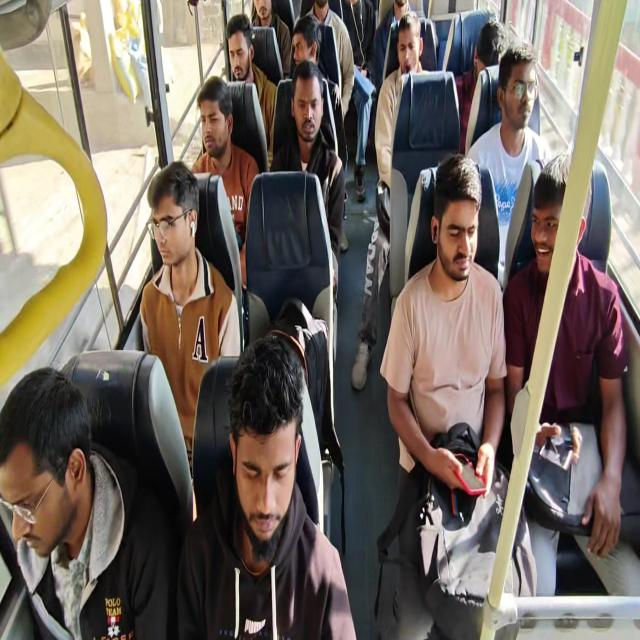person: (376, 152, 518, 638), (502, 152, 628, 596), (176, 334, 357, 638), (0, 366, 174, 639), (139, 160, 241, 484), (350, 12, 430, 390), (466, 39, 552, 291), (270, 59, 346, 301), (190, 75, 260, 289), (290, 13, 350, 252), (329, 0, 377, 201), (225, 13, 277, 161), (455, 19, 507, 152), (302, 0, 354, 122), (328, 0, 376, 79), (244, 0, 291, 80), (373, 0, 410, 97)
